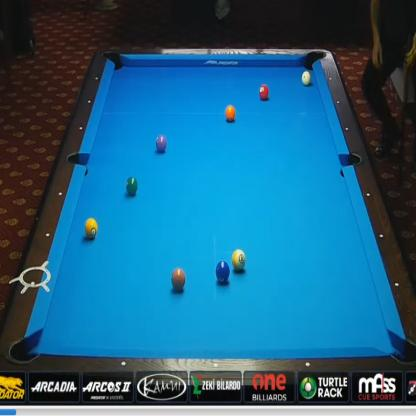Ball: (215, 261, 230, 284), (171, 268, 186, 291), (231, 249, 246, 270), (85, 218, 98, 238), (126, 176, 138, 196), (225, 105, 236, 122), (156, 135, 167, 152), (259, 84, 269, 100), (302, 71, 312, 86)
